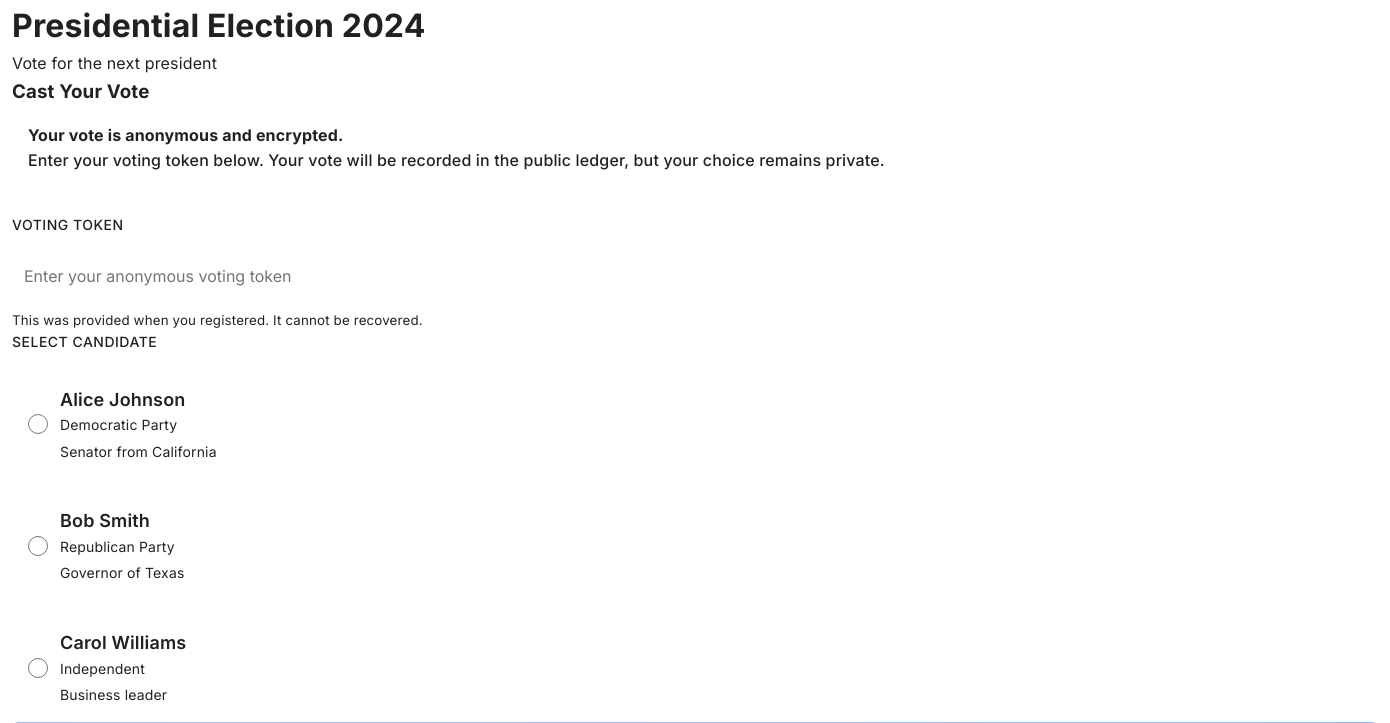
Test: Vote Page › Candidate Selection › only one candidate can be selected at a time
Click the text "Alice Johnson".
click(123, 399)  # box [60,389,185,410]
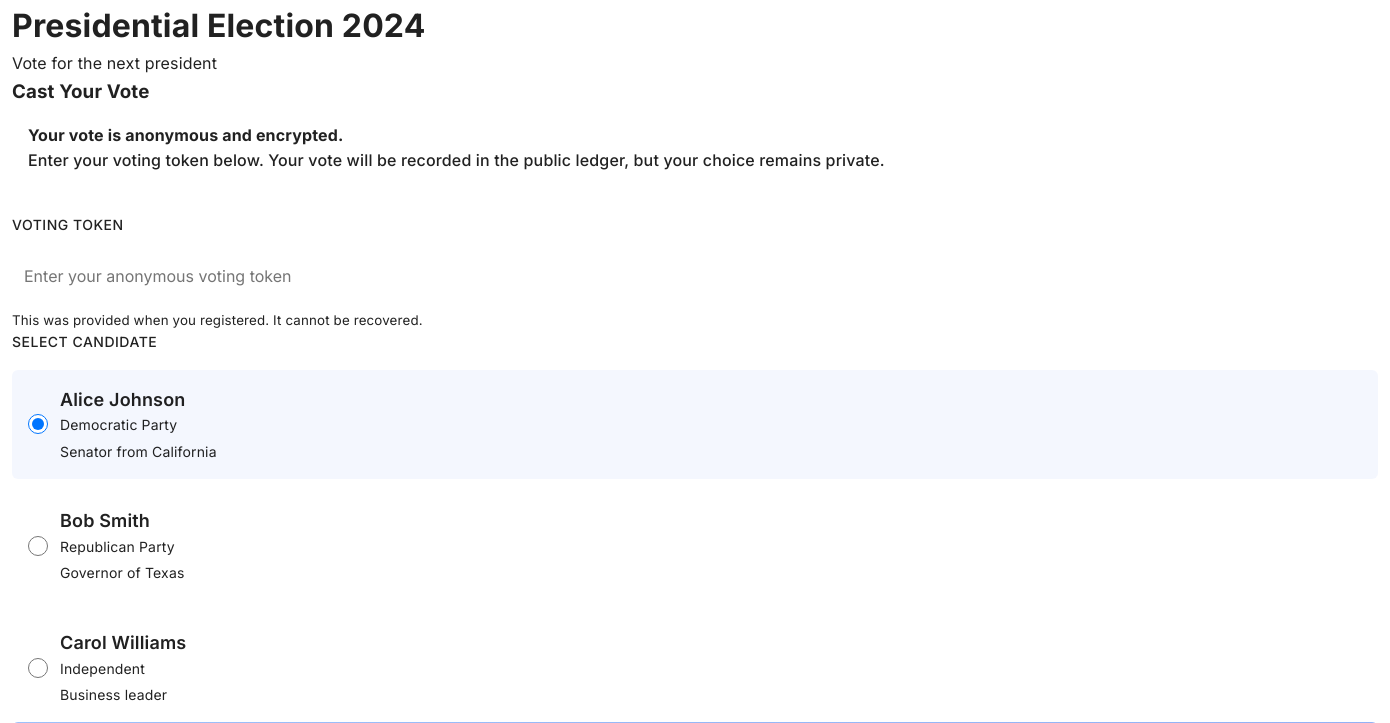
Click the text "Bob Smith".
click(105, 521)  # box [60,510,150,531]
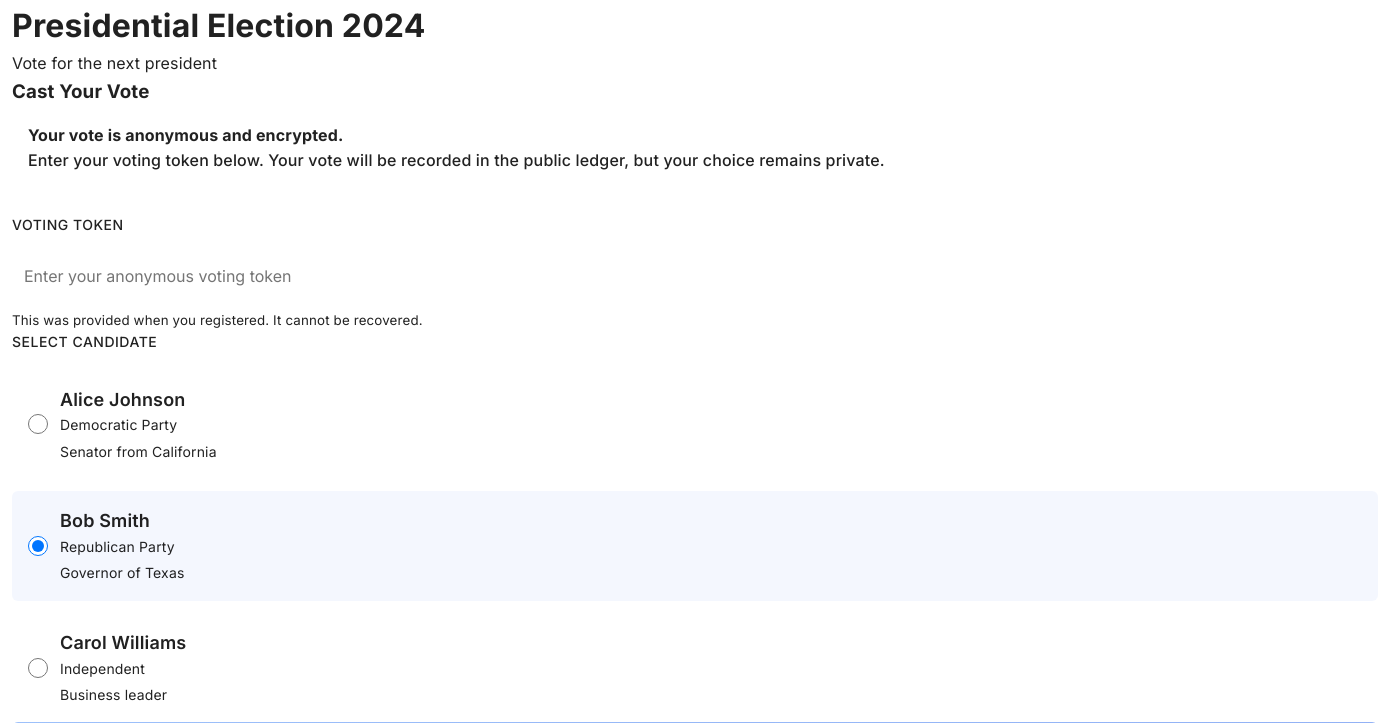
Result: the radio button next to "Democratic Party" is not checked at [28,414,48,434]
Result: the radio button next to "Republican Party" is checked at [28,536,48,556]
